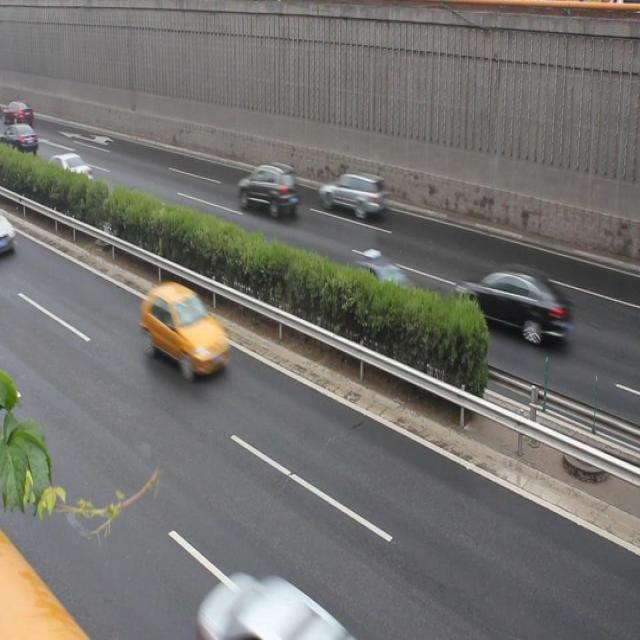car: (452, 265, 571, 347), (136, 280, 229, 374), (338, 245, 414, 313), (231, 158, 299, 224), (321, 164, 390, 225), (47, 148, 93, 192)
